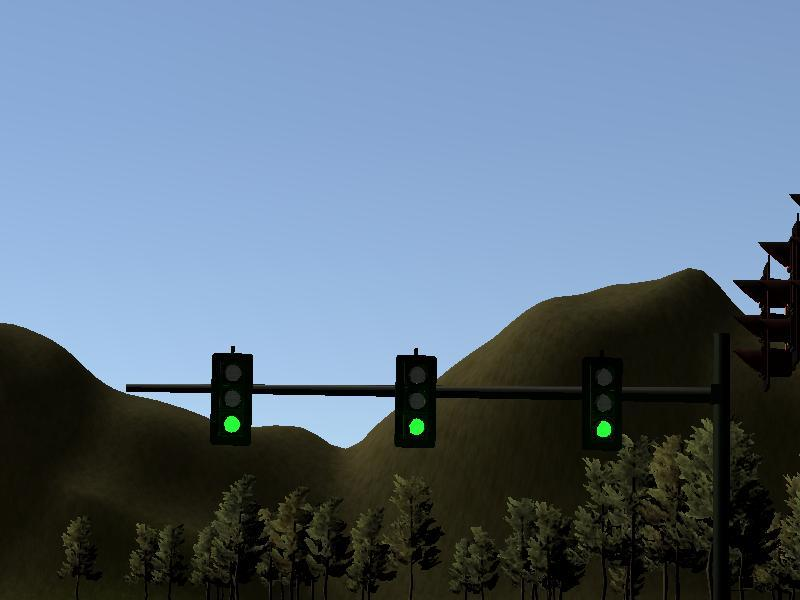Green: (584, 359, 623, 449), (397, 356, 435, 447), (213, 353, 250, 446)
